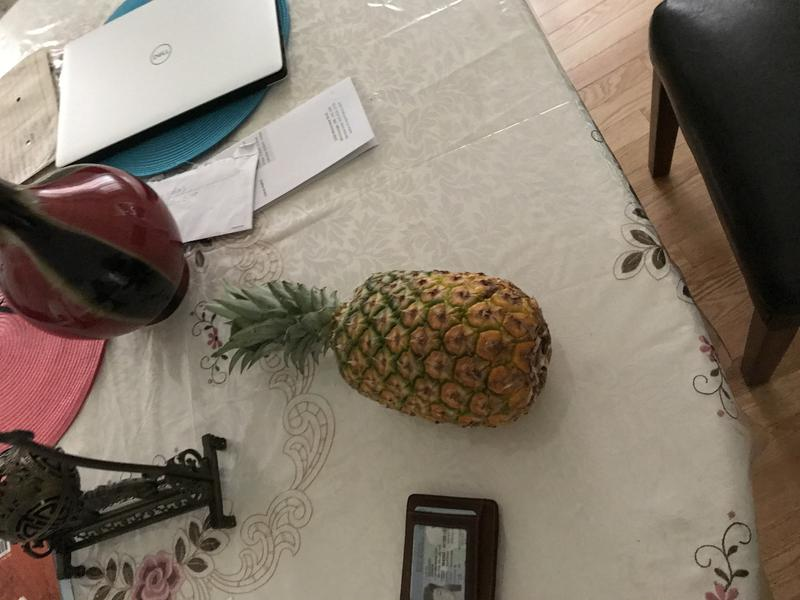pineapple: (200, 257, 559, 436)
